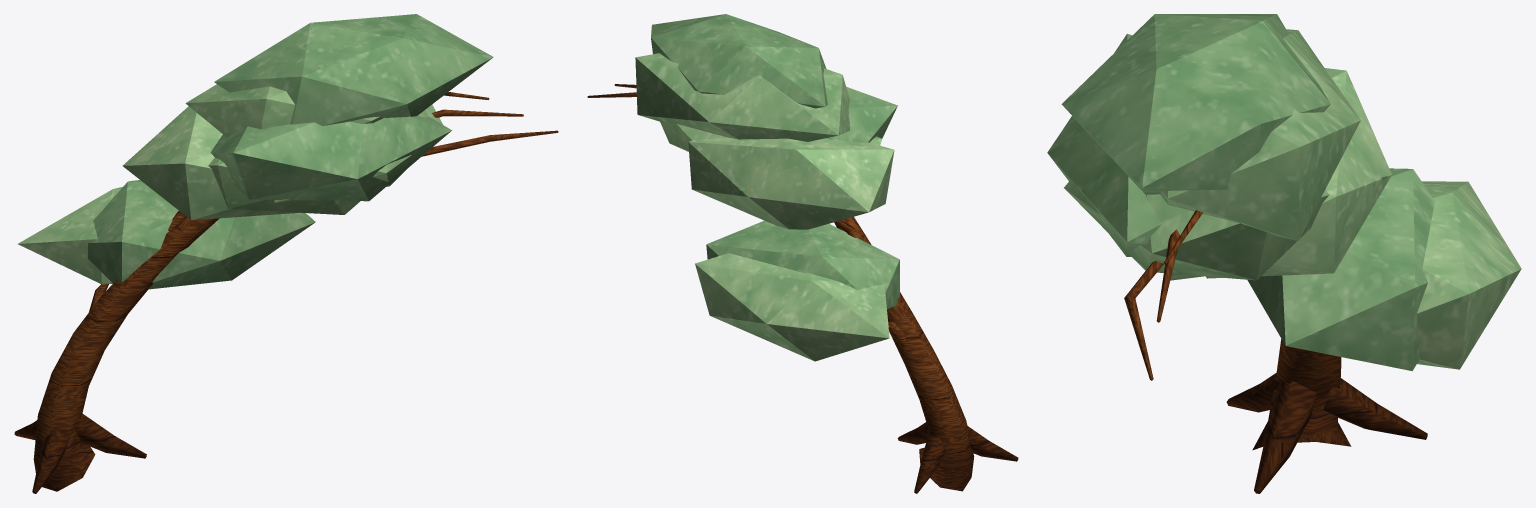
The model's file is tree_cloud_b.glb.
3 views of the same model, side by side, from view 1: azimuth 30°, elevation 25°; view 2: azimuth 150°, elevation 25°; view 3: azimuth 270°, elevation 25° (orthographic). The views are drawn at different scales.
Parts seen in each view (by area): view 1: tree_cloud_b; view 2: tree_cloud_b; view 3: tree_cloud_b.
Part boxes in pixels (left/top/right/bottom): tree_cloud_b: left=14, top=14, right=558, bottom=493; tree_cloud_b: left=587, top=14, right=1018, bottom=493; tree_cloud_b: left=1047, top=14, right=1521, bottom=493.
Size of the model in its own units: 4.62 by 3.66 by 2.51.
2 materials, 2 textured.
